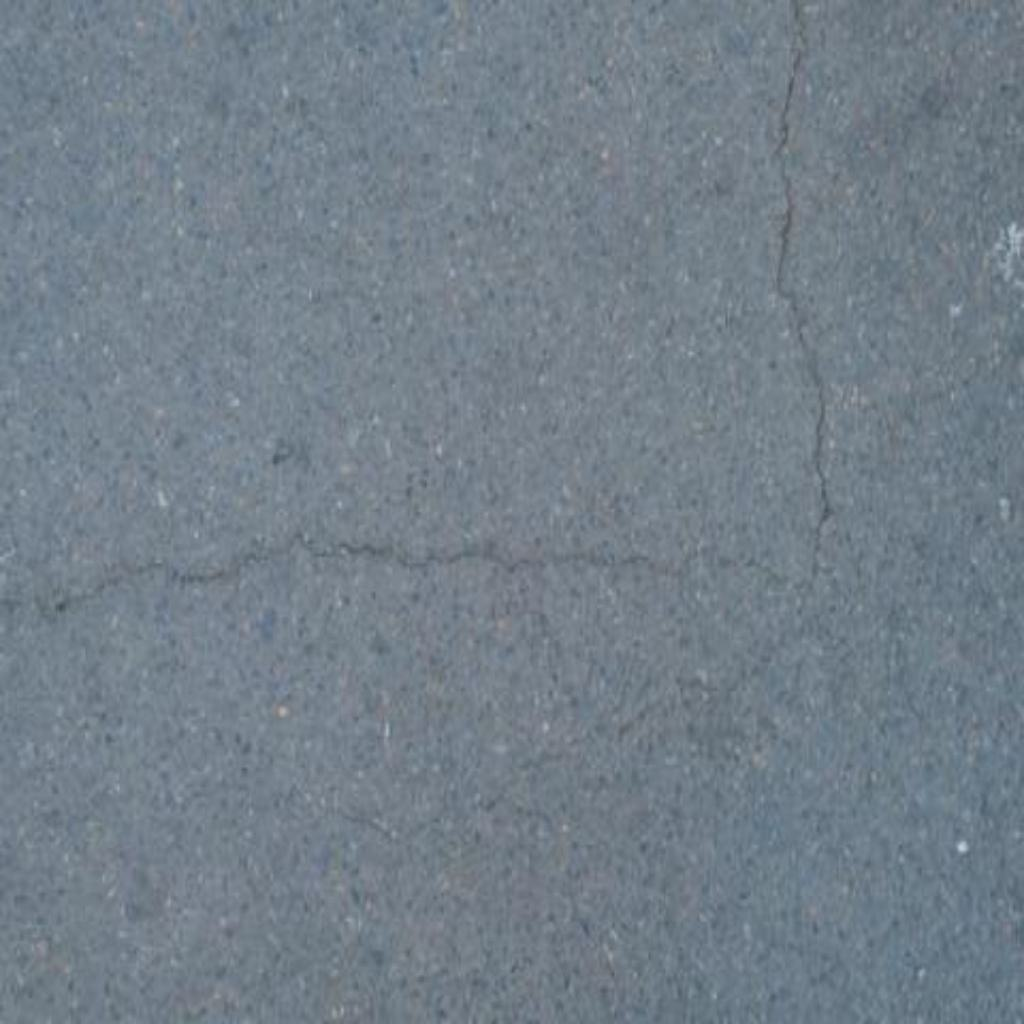Crack: (1, 531, 691, 618), (774, 1, 836, 618)
